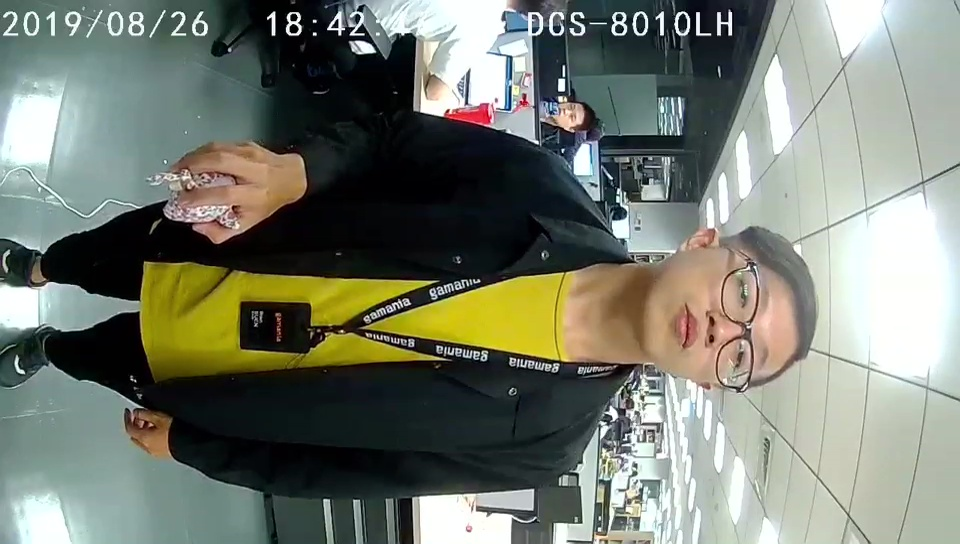pig: (144, 168, 241, 231)
